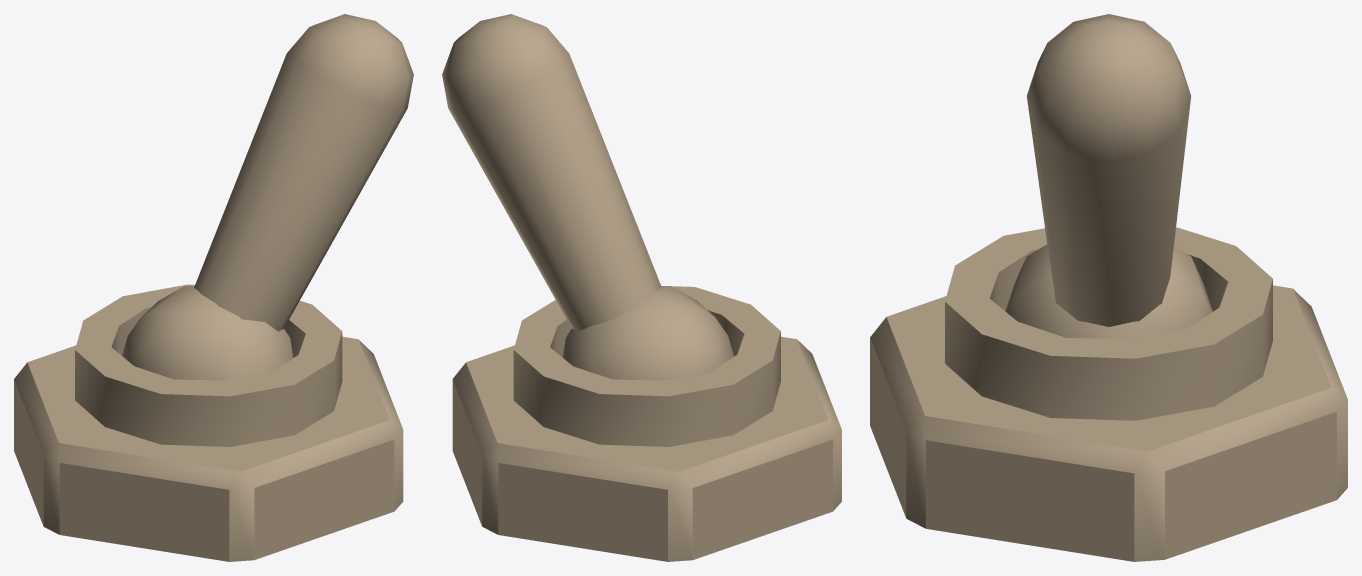
Rendered from Interupteur.fbx.
3 views of the same model, side by side, from view 1: azimuth 30°, elevation 25°; view 2: azimuth 150°, elevation 25°; view 3: azimuth 270°, elevation 25° (orthographic). The views are drawn at different scales.
Parts seen in each view (by area): view 1: Interupteur1; view 2: Interupteur1; view 3: Interupteur1.
Part boxes in pixels (x1,y1,x2,y2): Interupteur1: (14,14,413,561); Interupteur1: (442,14,841,561); Interupteur1: (870,14,1347,561).
Size of the model in its own units: 4.07 by 4.41 by 3.69.
